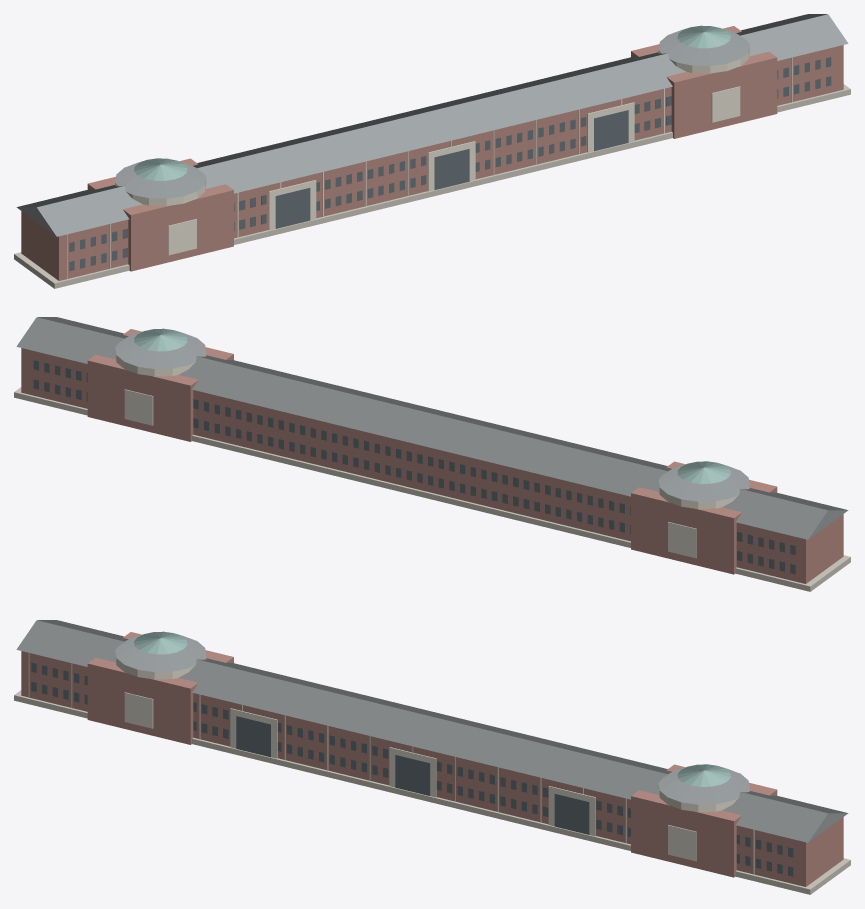
Rendered from source.glb.
3 renders of one model, top to bottom at view 1: azimuth 30°, elevation 25°; view 2: azimuth 150°, elevation 25°; view 3: azimuth 330°, elevation 25°, orthographic.
Visible parts, largest first — view 1: worldgen; view 2: worldgen; view 3: worldgen.
Part boxes in pixels (x1=…): worldgen: x1=14, y1=14, x2=850, y2=288; worldgen: x1=14, y1=317, x2=850, y2=591; worldgen: x1=14, y1=620, x2=850, y2=894.
Bounding box in the file's own units: 340 × 32 × 34.
